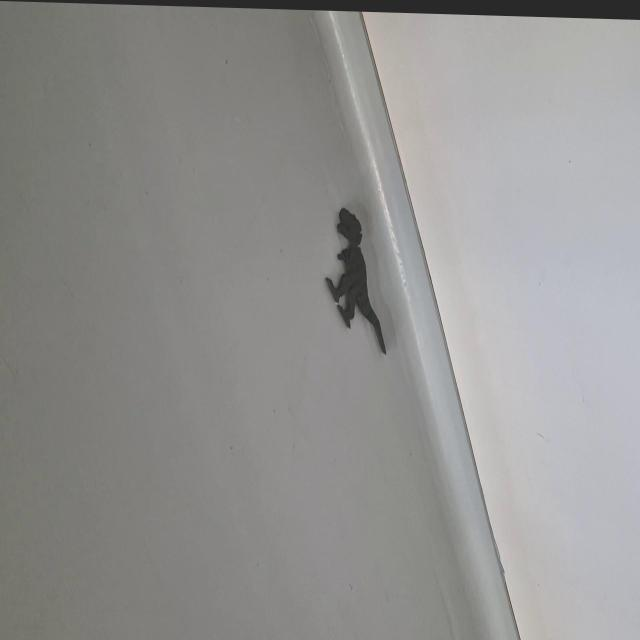dino: (325, 205, 387, 355)
